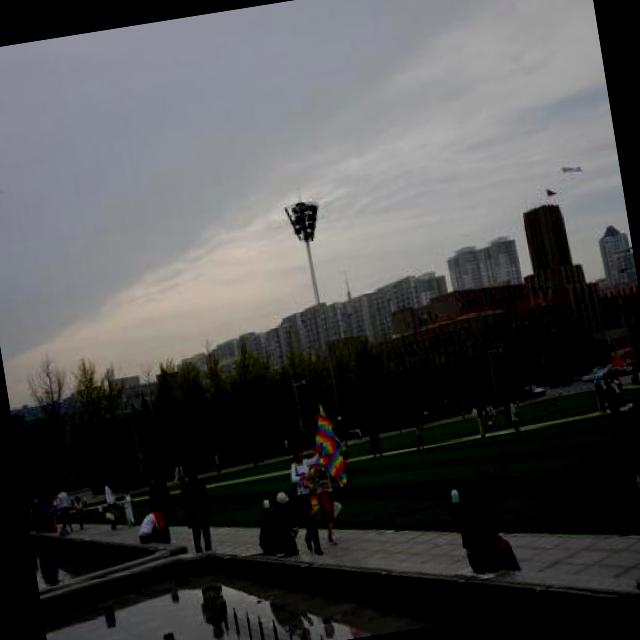Person: (18, 362, 638, 562), (450, 468, 521, 580), (285, 441, 340, 561), (618, 392, 640, 557), (176, 463, 215, 552), (249, 486, 298, 550), (310, 464, 340, 544), (600, 376, 624, 430), (470, 400, 486, 438), (410, 416, 426, 451), (594, 373, 606, 412), (508, 396, 518, 431), (176, 458, 184, 489), (482, 400, 494, 416)
